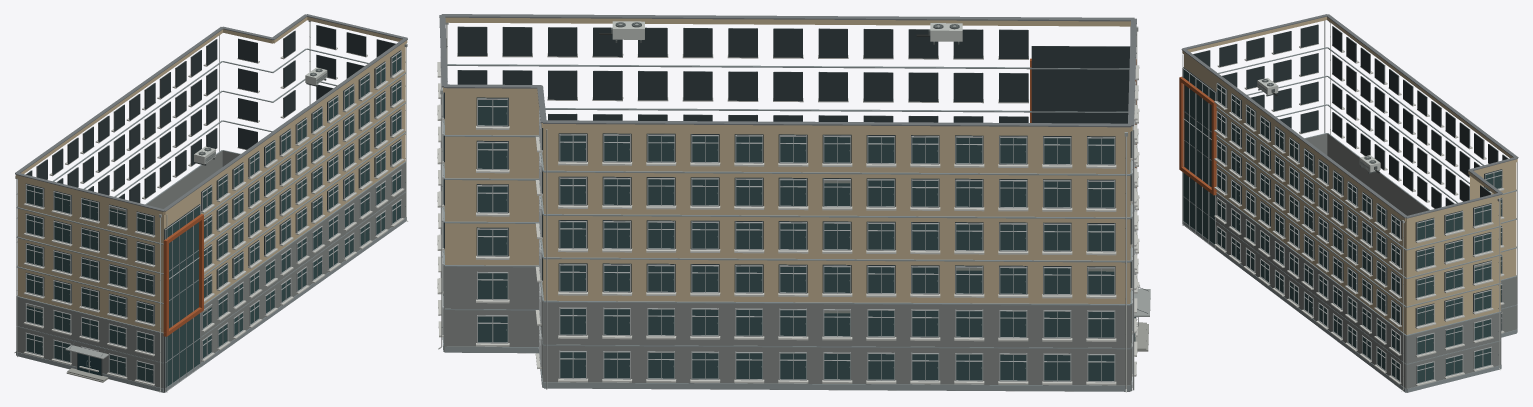
The model's file is osm_way_1173057054.glb.
3 views of the same model, side by side, from view 1: azimuth 30°, elevation 25°; view 2: azimuth 150°, elevation 25°; view 3: azimuth 270°, elevation 25° (orthographic). The views are drawn at different scales.
Visible parts, largest first — view 1: Windows and facade details | 工程实验教学部, Architecture | 工程实验教学部, Roof services | 工程实验教学部, EXTERIOR::osm_way_1173057054::rainwater and roof service det, EXTERIOR::osm_way_1173057054::inferred entry doors canopy an; view 2: Windows and facade details | 工程实验教学部, Architecture | 工程实验教学部, Roof services | 工程实验教学部, EXTERIOR::osm_way_1173057054::rainwater and roof service det, EXTERIOR::osm_way_1173057054::inferred entry doors canopy an; view 3: Windows and facade details | 工程实验教学部, Architecture | 工程实验教学部, Roof services | 工程实验教学部, EXTERIOR::osm_way_1173057054::rainwater and roof service det.
Boxes of the visible parts, <box> form: Windows and facade details | 工程实验教学部: <box>17,25,404,392</box>; Architecture | 工程实验教学部: <box>15,17,407,392</box>; Roof services | 工程实验教学部: <box>15,14,407,211</box>; EXTERIOR::osm_way_1173057054::rainwater and roof service det: <box>14,20,408,392</box>; EXTERIOR::osm_way_1173057054::inferred entry doors canopy an: <box>65,342,108,382</box>; Windows and facade details | 工程实验教学部: <box>437,26,1139,390</box>; Architecture | 工程实验教学部: <box>442,17,1136,391</box>; Roof services | 工程实验教学部: <box>439,14,1136,127</box>; EXTERIOR::osm_way_1173057054::rainwater and roof service det: <box>438,21,1139,392</box>; EXTERIOR::osm_way_1173057054::inferred entry doors canopy an: <box>1134,287,1150,351</box>; Windows and facade details | 工程实验教学部: <box>1182,20,1517,386</box>; Architecture | 工程实验教学部: <box>1179,16,1517,392</box>; Roof services | 工程实验教学部: <box>1181,14,1518,218</box>; EXTERIOR::osm_way_1173057054::rainwater and roof service det: <box>1257,22,1500,391</box>.
Bounding box in the file's own units: 56.6 × 23.58 × 39.8.
